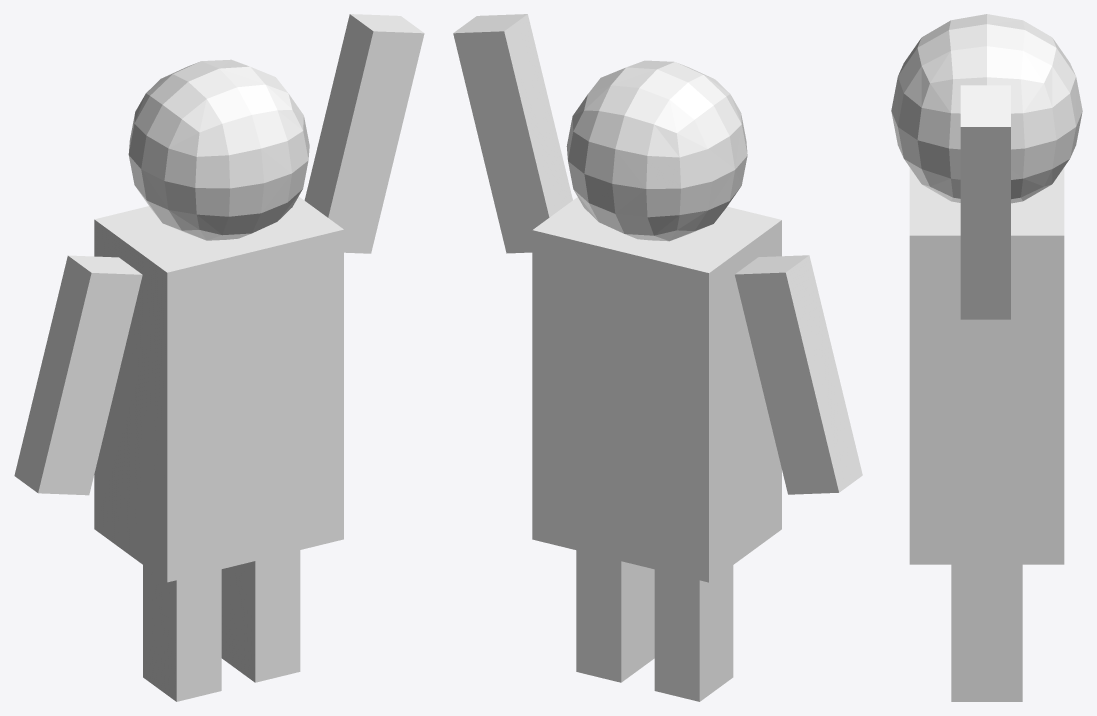
The model's file is playertest2.obj.
3 views of the same model, side by side, from view 1: azimuth 30°, elevation 25°; view 2: azimuth 150°, elevation 25°; view 3: azimuth 270°, elevation 25° (orthographic). The views are drawn at different scales.
Parts seen in each view (by area): view 1: Cube; view 2: Cube; view 3: Cube.
Part boxes in pixels (x1,y1,x2,y2): Cube: (14,14,424,701); Cube: (453,14,862,701); Cube: (891,14,1082,701).
Size of the model in its own units: 1.12 by 1.71 by 0.4506.
1 material, 1 textured.
